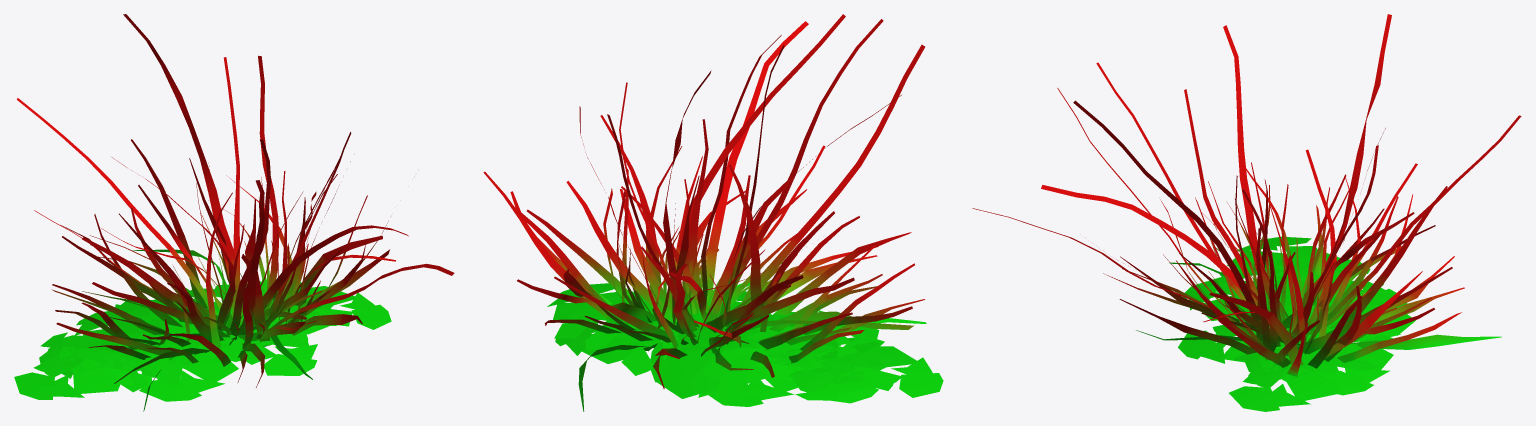
Rendered from Wild Grass_LOD2_Var9_vczndjqja.fbx.
3 views of the same model, side by side, from view 1: azimuth 30°, elevation 25°; view 2: azimuth 150°, elevation 25°; view 3: azimuth 270°, elevation 25° (orthographic). The views are drawn at different scales.
Parts seen in each view (by area): view 1: _b3ur_Var9_LOD2; view 2: _b3ur_Var9_LOD2; view 3: _b3ur_Var9_LOD2.
Boxes of the visible parts, x1=… form: _b3ur_Var9_LOD2: x1=14, y1=14, x2=454, y2=411; _b3ur_Var9_LOD2: x1=483, y1=14, x2=943, y2=411; _b3ur_Var9_LOD2: x1=972, y1=14, x2=1521, y2=411.
Size of the model in its own units: 120 by 84.09 by 139.
